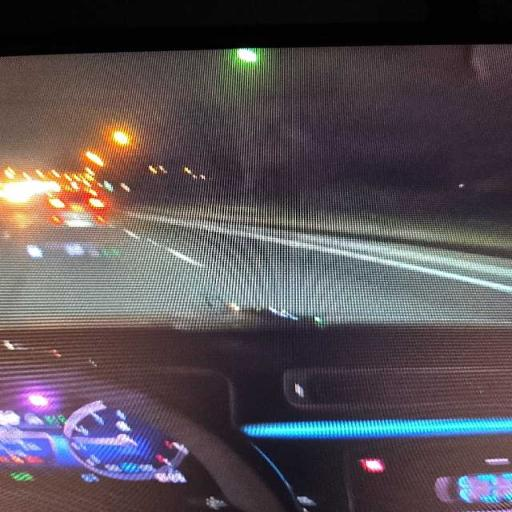car: (0, 187, 122, 259), (46, 191, 108, 228)
lane: (0, 216, 511, 327), (0, 230, 211, 328)
